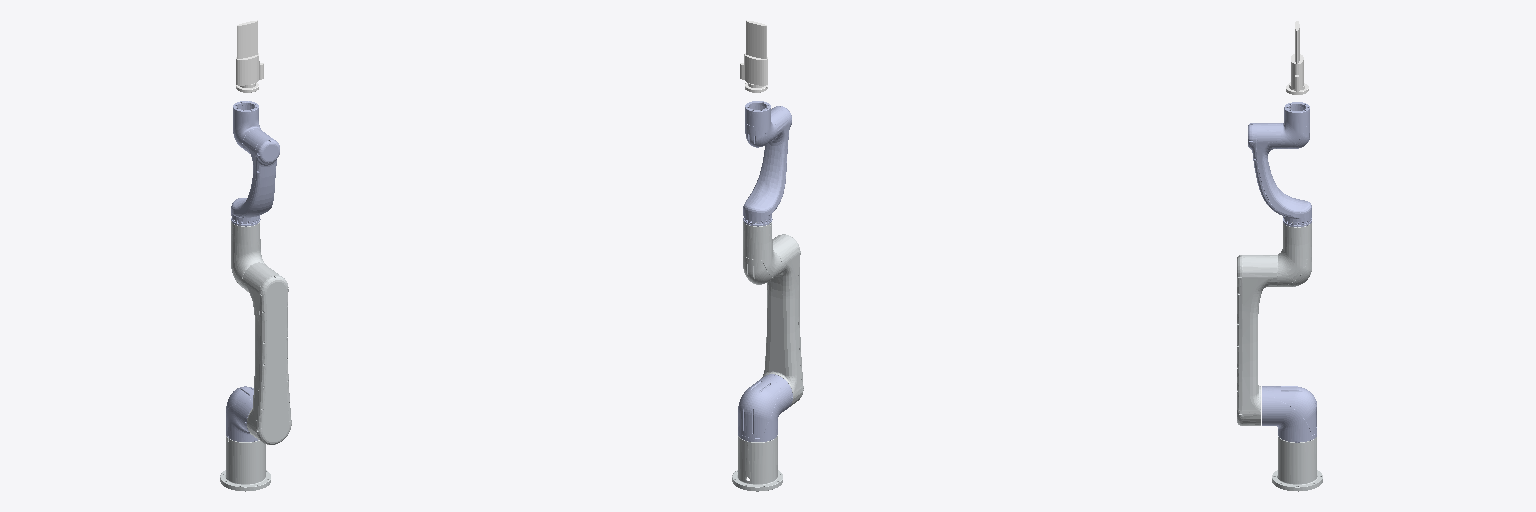
robot.urdf — arm3handle:
<?xml version="1.0" encoding="utf-8"?>
<!-- This URDF was automatically created by SolidWorks to URDF Exporter! Originally created by [author] ([email redacted]) 
     Commit Version: 1.6.0-4-g7f85cfe  Build Version: 1.6.7995.38578
     For more information, please see http://wiki.ros.org/sw_urdf_exporter -->
<robot
  name="arm3handle">
  <link
    name="base_link">
    <inertial>
      <origin
        xyz="-9.28873513207525E-06 0.0746239311979686 9.82937410156762E-05"
        rpy="0 0 0" />
      <mass
        value="1.11279730052412" />
      <inertia
        ixx="0.00524671251669767"
        ixy="8.52421876065721E-07"
        ixz="-5.77660984238907E-09"
        iyy="0.00396737689015283"
        iyz="4.32665244687423E-06"
        izz="0.00525248785044558" />
    </inertial>
    <visual>
      <origin
        xyz="0 0 0"
        rpy="0 0 0" />
      <geometry>
        <mesh
          filename="package://ti5_description/meshes/arm3handle/base_link.STL" />
      </geometry>
      <material
        name="">
        <color
          rgba="0.898039215686275 0.917647058823529 0.929411764705882 1" />
      </material>
    </visual>
    <collision>
      <origin
        xyz="0 0 0"
        rpy="0 0 0" />
      <geometry>
        <mesh
          filename="package://ti5_description/meshes/arm3handle/base_link.STL" />
      </geometry>
    </collision>
  </link>
  <link
    name="A">
    <inertial>
      <origin
        xyz="1.67527212574961E-06 -0.0317072984878841 0.0650872784015473"
        rpy="0 0 0" />
      <mass
        value="1.01820588028437" />
      <inertia
        ixx="0.00406142779610529"
        ixy="1.57881742400063E-07"
        ixz="1.65977553533219E-07"
        iyy="0.00366706938348512"
        iyz="0.00128788487411734"
        izz="0.00374374610489979" />
    </inertial>
    <visual>
      <origin
        xyz="0 0 0"
        rpy="0 0 0" />
      <geometry>
        <mesh
          filename="package://ti5_description/meshes/arm3handle/A.STL" />
      </geometry>
      <material
        name="">
        <color
          rgba="0.792156862745098 0.819607843137255 0.933333333333333 1" />
      </material>
    </visual>
    <collision>
      <origin
        xyz="0 0 0"
        rpy="0 0 0" />
      <geometry>
        <mesh
          filename="package://ti5_description/meshes/arm3handle/A.STL" />
      </geometry>
    </collision>
  </link>
  <joint
    name="A"
    type="revolute">
    <origin
      xyz="0 0 0.161"
      rpy="0 0 0" />
    <parent
      link="base_link" />
    <child
      link="A" />
    <axis
      xyz="0 0 -1" />
    <limit
      lower="-3.14"
      upper="3.14"
      effort="0"
      velocity="0" />
  </joint>
  <link
    name="B">
    <inertial>
      <origin
        xyz="0.216780093883912 -4.70816192504886E-05 -0.02735284605423"
        rpy="0 0 0" />
      <mass
        value="2.44810025514979" />
      <inertia
        ixx="0.0038505234790356"
        ixy="-7.7538631852825E-06"
        ixz="-0.00221581821101578"
        iyy="0.0639365557079407"
        iyz="-1.76119863523836E-06"
        izz="0.0657363300523167" />
    </inertial>
    <visual>
      <origin
        xyz="0 0 0"
        rpy="0 0 0" />
      <geometry>
        <mesh
          filename="package://ti5_description/meshes/arm3handle/B.STL" />
      </geometry>
      <material
        name="">
        <color
          rgba="0.898039215686275 0.917647058823529 0.929411764705882 1" />
      </material>
    </visual>
    <collision>
      <origin
        xyz="0 0 0"
        rpy="0 0 0" />
      <geometry>
        <mesh
          filename="package://ti5_description/meshes/arm3handle/B.STL" />
      </geometry>
    </collision>
  </link>
  <joint
    name="B"
    type="revolute">
    <origin
      xyz="0 -0.109 0.094"
      rpy="-1.5707963267949 -1.5708 0" />
    <parent
      link="A" />
    <child
      link="B" />
    <axis
      xyz="0 0 1" />
    <limit
      lower="-1.48"
      upper="1.48"
      effort="0"
      velocity="0" />
  </joint>
  <link
    name="C">
    <inertial>
      <origin
        xyz="0.0561634635591571 -5.21692352617453E-06 0.0442228577203887"
        rpy="0 0 0" />
      <mass
        value="0.792847438475479" />
      <inertia
        ixx="0.00155647736798524"
        ixy="-3.65645633358293E-07"
        ixz="-0.000764995994759169"
        iyy="0.00325968870651584"
        iyz="2.39716562255892E-08"
        izz="0.00328481649208421" />
    </inertial>
    <visual>
      <origin
        xyz="0 0 0"
        rpy="0 0 0" />
      <geometry>
        <mesh
          filename="package://ti5_description/meshes/arm3handle/C.STL" />
      </geometry>
      <material
        name="">
        <color
          rgba="0.898039215686275 0.917647058823529 0.929411764705882 1" />
      </material>
    </visual>
    <collision>
      <origin
        xyz="0 0 0"
        rpy="0 0 0" />
      <geometry>
        <mesh
          filename="package://ti5_description/meshes/arm3handle/C.STL" />
      </geometry>
    </collision>
  </link>
  <joint
    name="C"
    type="revolute">
    <origin
      xyz="0.45 0 0.0465"
      rpy="0 0 0" />
    <parent
      link="B" />
    <child
      link="C" />
    <axis
      xyz="0 0 -1" />
    <limit
      lower="-2.61"
      upper="2.61"
      effort="0"
      velocity="0" />
  </joint>
  <link
    name="D">
    <inertial>
      <origin
        xyz="5.94029468544144E-05 0.0561761512540945 0.13148028453955"
        rpy="0 0 0" />
      <mass
        value="1.30170715719671" />
      <inertia
        ixx="0.0146993050497482"
        ixy="-1.00384940783022E-07"
        ixz="3.0188564331289E-07"
        iyy="0.0132480109739939"
        iyz="-0.00414545154915938"
        izz="0.00343740835162799" />
    </inertial>
    <visual>
      <origin
        xyz="0 0 0"
        rpy="0 0 0" />
      <geometry>
        <mesh
          filename="package://ti5_description/meshes/arm3handle/D.STL" />
      </geometry>
      <material
        name="">
        <color
          rgba="0.792156862745098 0.819607843137255 0.933333333333333 1" />
      </material>
    </visual>
    <collision>
      <origin
        xyz="0 0 0"
        rpy="0 0 0" />
      <geometry>
        <mesh
          filename="package://ti5_description/meshes/arm3handle/D.STL" />
      </geometry>
    </collision>
  </link>
  <joint
    name="D"
    type="revolute">
    <origin
      xyz="0.1655 0 0.062"
      rpy="-1.5707963267949 0 -1.5707963267949" />
    <parent
      link="C" />
    <child
      link="D" />
    <axis
      xyz="0 0 1" />
    <limit
      lower="-3.14"
      upper="3.14"
      effort="0"
      velocity="0" />
  </joint>
  <link
    name="E">
    <inertial>
      <origin
        xyz="0.0356680820284622 1.47809053274717E-06 0.0360091693372523"
        rpy="0 0 0" />
      <mass
        value="0.358073586450441" />
      <inertia
        ixx="0.000483529765019695"
        ixy="-7.5250354836555E-08"
        ixz="-0.000197809559856971"
        iyy="0.000714759175156705"
        iyz="-4.5964516312978E-08"
        izz="0.00071482421797331" />
    </inertial>
    <visual>
      <origin
        xyz="0 0 0"
        rpy="0 0 0" />
      <geometry>
        <mesh
          filename="package://ti5_description/meshes/arm3handle/E.STL" />
      </geometry>
      <material
        name="">
        <color
          rgba="0.792156862745098 0.819607843137255 0.933333333333333 1" />
      </material>
    </visual>
    <collision>
      <origin
        xyz="0 0 0"
        rpy="0 0 0" />
      <geometry>
        <mesh
          filename="package://ti5_description/meshes/arm3handle/E.STL" />
      </geometry>
    </collision>
  </link>
  <joint
    name="E"
    type="revolute">
    <origin
      xyz="0 0.0495 0.284"
      rpy="1.5707963267949 -1.5707963267949 0" />
    <parent
      link="D" />
    <child
      link="E" />
    <axis
      xyz="0 0 -1" />
    <limit
      lower="-3.05"
      upper="3.05"
      effort="0"
      velocity="0" />
  </joint>
  <link
    name="F">
    <inertial>
      <origin
        xyz="-8.28803886632201E-09 -0.00100430151244577 0.0790015504928586"
        rpy="0 0 0" />
      <mass
        value="0.376762104189431" />
      <inertia
        ixx="0.00114397225020022"
        ixy="-2.30218402930467E-09"
        ixz="-2.72266973972589E-09"
        iyy="0.00102990838934093"
        iyz="-1.60227594118957E-05"
        izz="0.000189324481521805" />
    </inertial>
    <visual>
      <origin
        xyz="0 0 0"
        rpy="0 0 0" />
      <geometry>
        <mesh
          filename="package://ti5_description/meshes/arm3handle/hand.stl" />
      </geometry>
      <material
        name="">
        <color
          rgba="1 1 1 1" />
      </material>
    </visual>
    <collision>
      <origin
        xyz="0 0 0"
        rpy="0 0 0" />
      <geometry>
        <mesh
          filename="package://ti5_description/meshes/arm3handle/hand.stl" />
      </geometry>
    </collision>
  </link>
  <joint
    name="F"
    type="revolute">
    <origin
      xyz="0.0955000000000001 0 0.0489999999999998"
      rpy="-1.5707963267949 0 -1.5707963267949" />
    <parent
      link="E" />
    <child
      link="F" />
    <axis
      xyz="0 0 1" />
    <limit
      lower="-3.05"
      upper="3.05"
      effort="0"
      velocity="0" />
  </joint>

  <joint
    name="G"
    type="revolute">
    <origin
      xyz="-0.0055000000000001 0 0.0589999999999998"
      rpy="0 0 -1.5707963267949" />
    <parent
      link="F" />
    <child
      link="G" />
    <axis
      xyz="0 0 1" />
    <limit
      lower="-3.05"
      upper="3.05"
      effort="0"
      velocity="0" />
  </joint>




  <link
    name="G">
    <inertial>
      <origin
        xyz="-8.28803886632201E-09 -0.00100430151244577 0.0790015504928586"
        rpy="0 0 0" />
      <mass
        value="0.376762104189431" />
      <inertia
        ixx="0.00114397225020022"
        ixy="-2.30218402930467E-09"
        ixz="-2.72266973972589E-09"
        iyy="0.00102990838934093"
        iyz="-1.60227594118957E-05"
        izz="0.000189324481521805" />
    </inertial>
    <visual>
      <origin
        xyz="0 0 0"
        rpy="0 0 0" />
      <geometry>
        <mesh
          filename="package://ti5_description/meshes/arm3handle/F.STL" />
      </geometry>
      <material
        name="">
        <color
          rgba="1 1 1 1" />
      </material>
    </visual>
    <collision>
      <origin
        xyz="0 0 0"
        rpy="0 0 0" />
      <geometry>
        <mesh
          filename="package://ti5_description/meshes/arm3handle/F.STL" />
      </geometry>
    </collision>
  </link>
</robot>

--- Facts derived from the render (not from the file) ---
Views: 3 orthographic renders of the robot side by side, from view 1: azimuth 30°, elevation 25°; view 2: azimuth 150°, elevation 25°; view 3: azimuth 270°, elevation 25°.
Model arm3handle with 8 links and 7 joints (7 revolute), rooted at base_link, posed all joints at 0.
Links seen in each view (by area): view 1: B, D, base_link, G, C, A, E; view 2: B, D, A, base_link, C, G, E; view 3: B, D, A, base_link, C, E, G.
Link boxes in pixels (x1=…): B: x1=242, y1=263, x2=291, y2=444; D: x1=231, y1=129, x2=279, y2=226; base_link: x1=220, y1=436, x2=270, y2=491; G: x1=236, y1=20, x2=263, y2=92; C: x1=231, y1=221, x2=265, y2=287; A: x1=226, y1=386, x2=257, y2=441; E: x1=233, y1=101, x2=260, y2=150; B: x1=762, y1=234, x2=803, y2=406; D: x1=743, y1=106, x2=791, y2=226; A: x1=738, y1=374, x2=792, y2=441; base_link: x1=732, y1=435, x2=782, y2=491; C: x1=743, y1=221, x2=781, y2=284; G: x1=740, y1=20, x2=767, y2=92; E: x1=745, y1=101, x2=776, y2=147; B: x1=1237, y1=255, x2=1276, y2=425; D: x1=1248, y1=123, x2=1311, y2=226; A: x1=1262, y1=386, x2=1316, y2=442; base_link: x1=1272, y1=436, x2=1322, y2=491; C: x1=1277, y1=222, x2=1311, y2=286; E: x1=1281, y1=102, x2=1309, y2=148; G: x1=1286, y1=21, x2=1308, y2=94.
Bounding box of the posed robot: 0.1538 × 0.26 × 1.52 m (x, y, z).
7 mesh visuals loaded from 8 distinct referenced files (7 binary STL); not drawn: 1 (reference not matched to a file when rendering).
